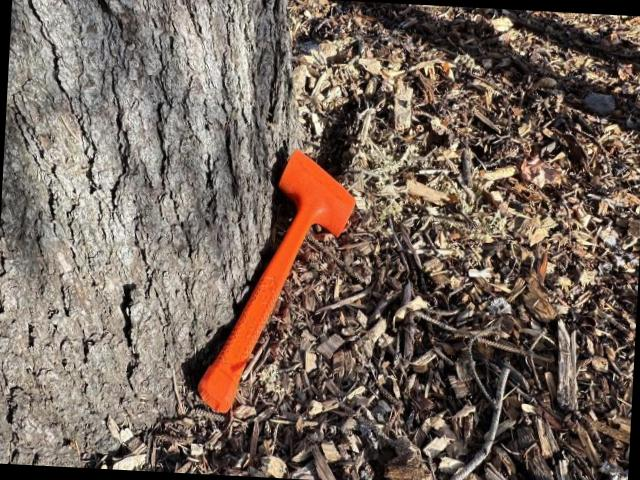hammer: (196, 146, 360, 421)
